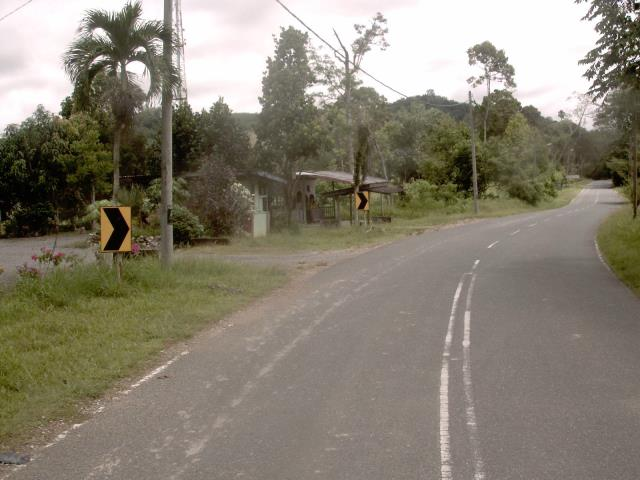traffic_sign: (91, 199, 139, 262)
